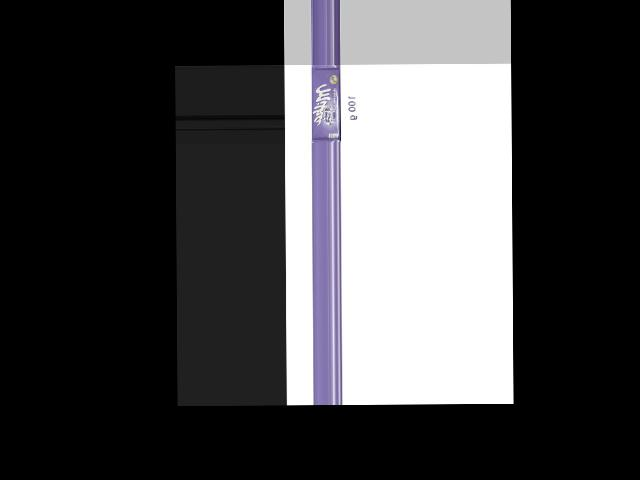chocolate: (310, 66, 346, 143)
